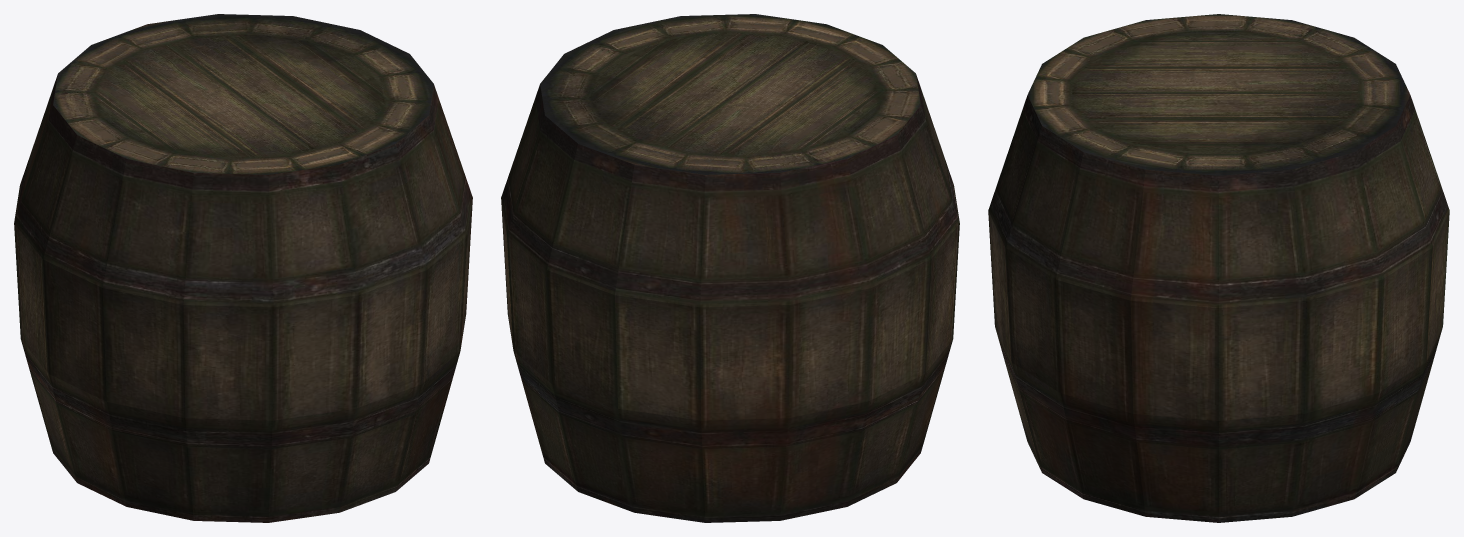
File: Barrilv1.fbx
The picture shows the model from 3 angles, left to right: view 1: azimuth 30°, elevation 25°; view 2: azimuth 150°, elevation 25°; view 3: azimuth 270°, elevation 25°; orthographic projection.
Parts seen in each view (by area): view 1: Cylinder; view 2: Cylinder; view 3: Cylinder.
Part boxes in pixels (x1,y1,x2,y2): Cylinder: (14,14,472,522); Cylinder: (501,14,959,522); Cylinder: (988,14,1449,522).
Bounding box in the file's own units: 241 × 200 × 241.
1 material, 1 textured.
